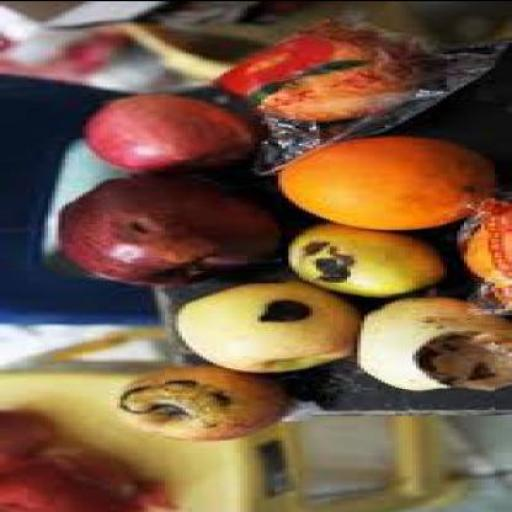biodegradable: (58, 176, 285, 288), (268, 135, 498, 232), (172, 281, 361, 374), (234, 35, 416, 123), (354, 297, 509, 391), (102, 366, 288, 443), (79, 97, 258, 173), (282, 223, 447, 300), (0, 449, 167, 510), (457, 212, 509, 289), (0, 413, 48, 458)
